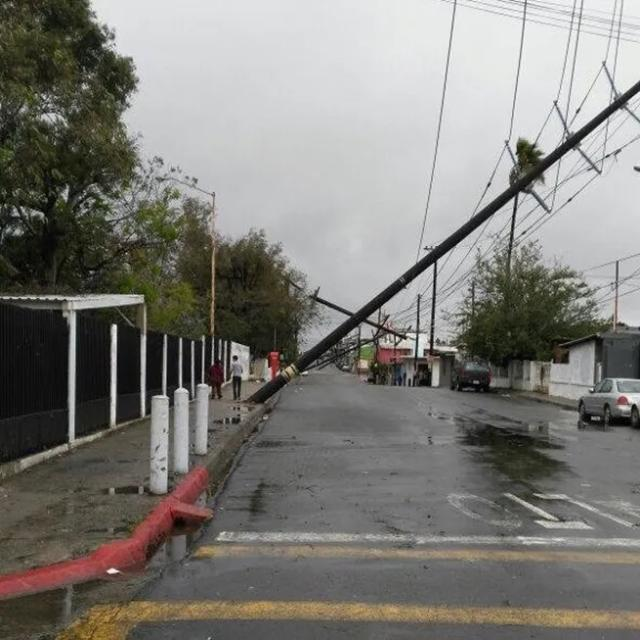Inclined Pole: (244, 46, 640, 405)
